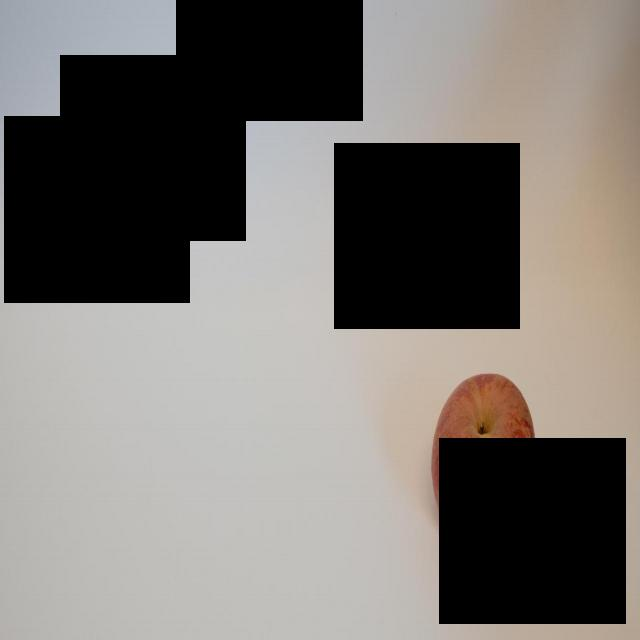apple: (430, 371, 537, 547)
